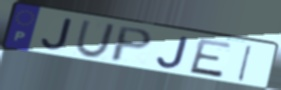E: (187, 37, 234, 80)
I: (235, 44, 254, 83)
J: (155, 35, 191, 70), (39, 17, 74, 52)
P: (108, 25, 156, 64)
U: (73, 19, 118, 60)
